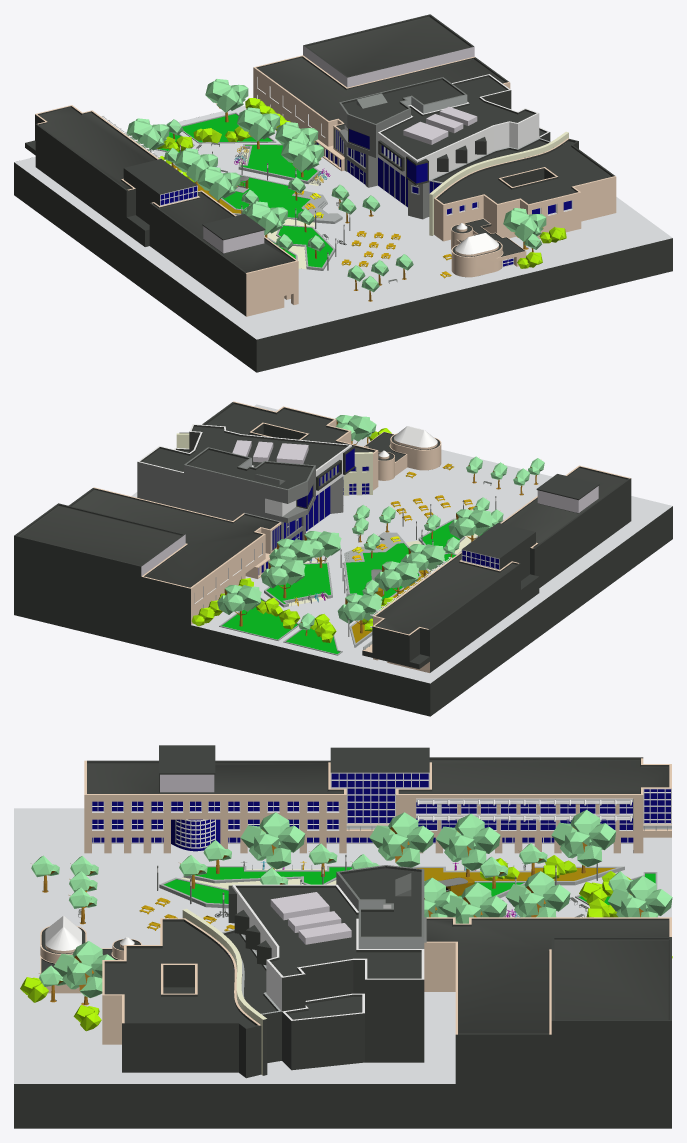
The model's file is 3DModel4Web.glb.
The picture shows the model from 3 angles, top to bottom: view 1: azimuth 30°, elevation 25°; view 2: azimuth 150°, elevation 25°; view 3: azimuth 270°, elevation 25°; orthographic projection. The views are drawn at different scales.
Parts seen in each view (by area): view 1: mesh0; view 2: mesh0; view 3: mesh0.
Part boxes in pixels (x1,y1,x2,y2): mesh0: (14, 14, 672, 372); mesh0: (14, 401, 672, 716); mesh0: (14, 745, 672, 1128).
Size of the model in its own units: 13.18 by 3.2 by 13.32.
1 material, 1 textured.
